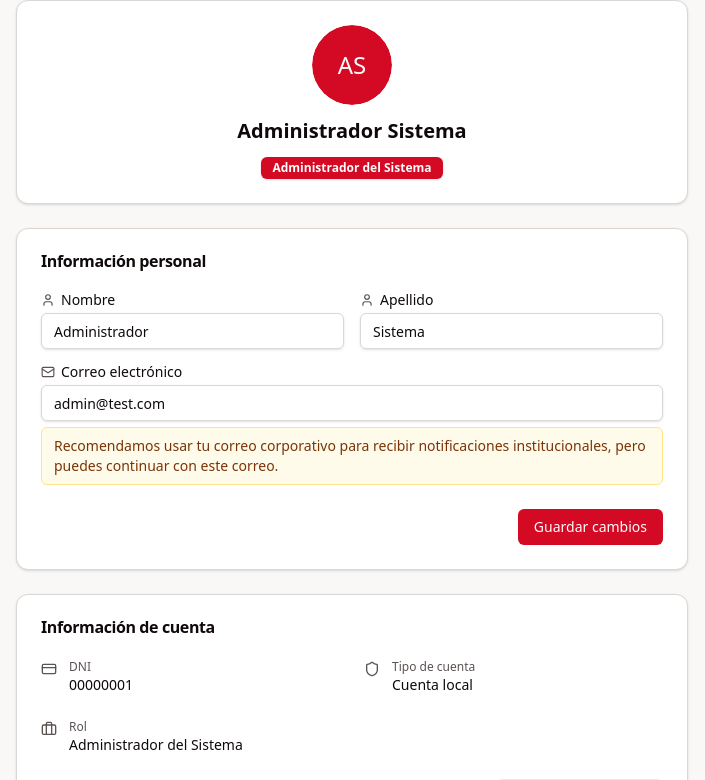
Test case: ProfileView › bloquea guardar perfil cuando el formato de correo es inválido
Replace the text in the field labelled "Correo electrónico" with "not-an-email" at (352, 403), box x1=41 y1=385 x2=663 y2=421
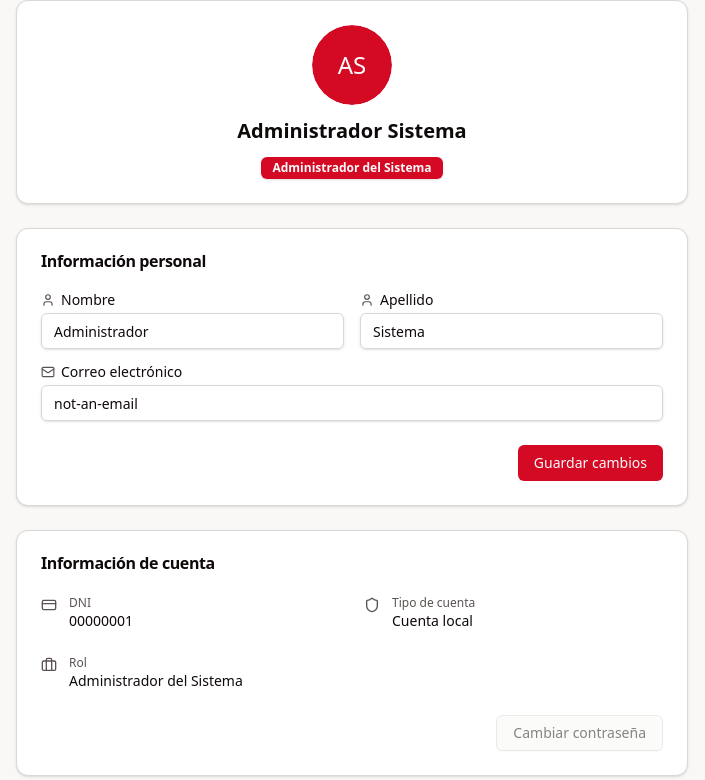
Click the button "Guardar cambios" at (590, 463), box x1=518 y1=445 x2=663 y2=481
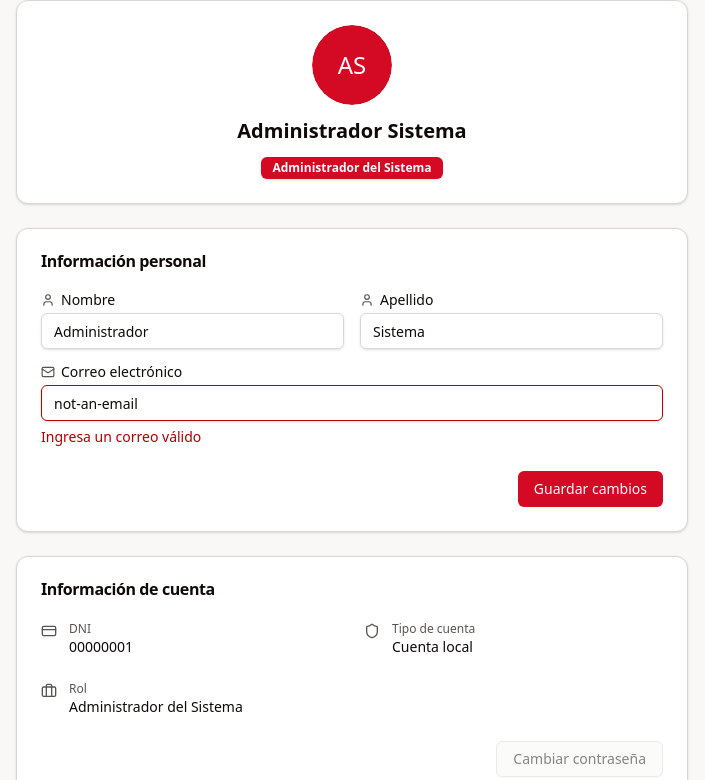
Result: the text "Ingresa un correo válido" is shown at x1=41 y1=427 x2=201 y2=446
